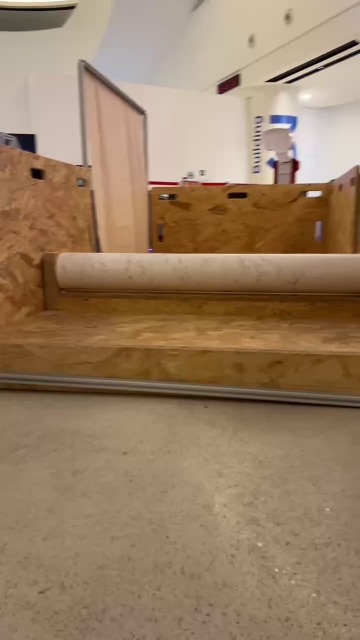curtain: (76, 64, 148, 256)
